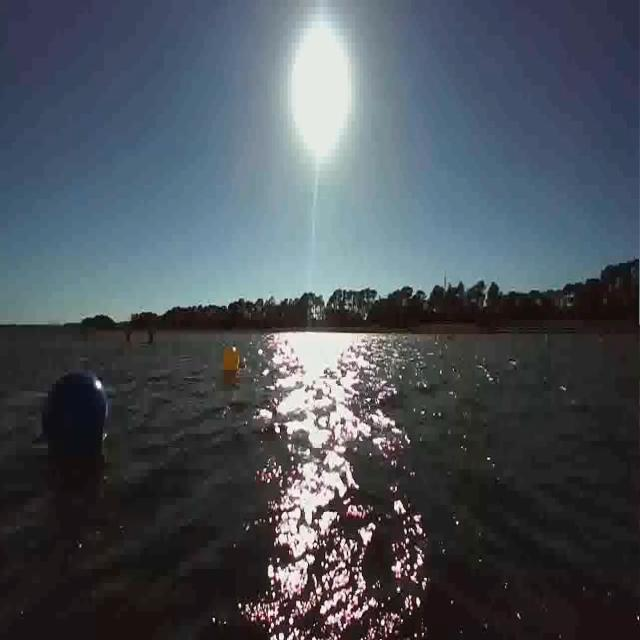blue-buoy: (38, 366, 110, 456)
yellow-buoy: (222, 344, 240, 373)
